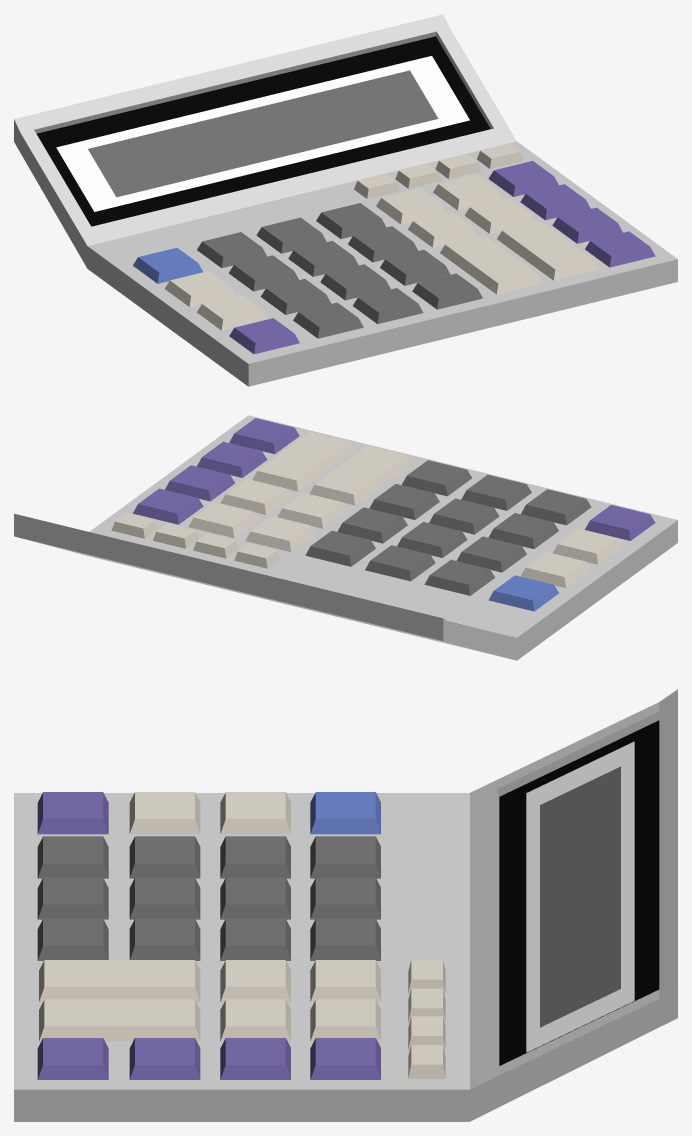
The model's file is lommeregner.glb.
3 renders of one model, top to bottom at view 1: azimuth 30°, elevation 25°; view 2: azimuth 150°, elevation 25°; view 3: azimuth 270°, elevation 25°, orthographic. The views are drawn at different scales.
Visible parts, largest first — view 1: Cube.045; view 2: Cube.045; view 3: Cube.045.
Boxes of the visible parts, box(x1,y1,x2,y2) form: Cube.045: box(14, 14, 677, 386); Cube.045: box(14, 415, 677, 660); Cube.045: box(14, 689, 677, 1121).
Size of the model in its own units: 0.8285 by 0.1771 by 0.7835.
